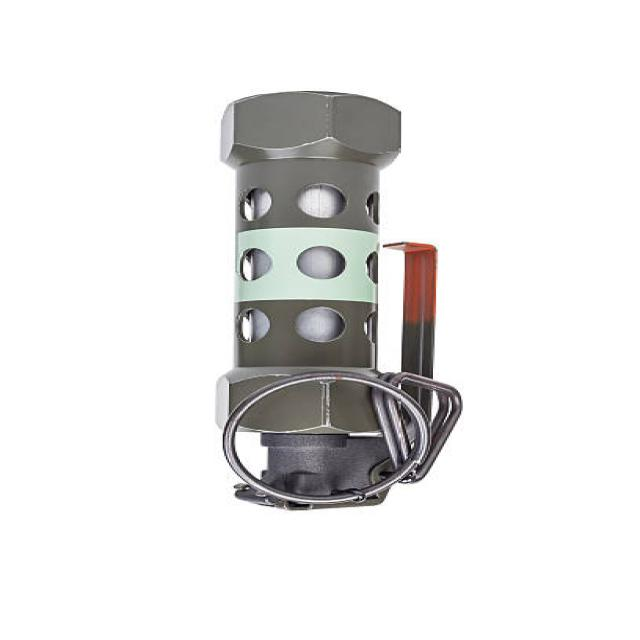grenade: (202, 93, 477, 522)
